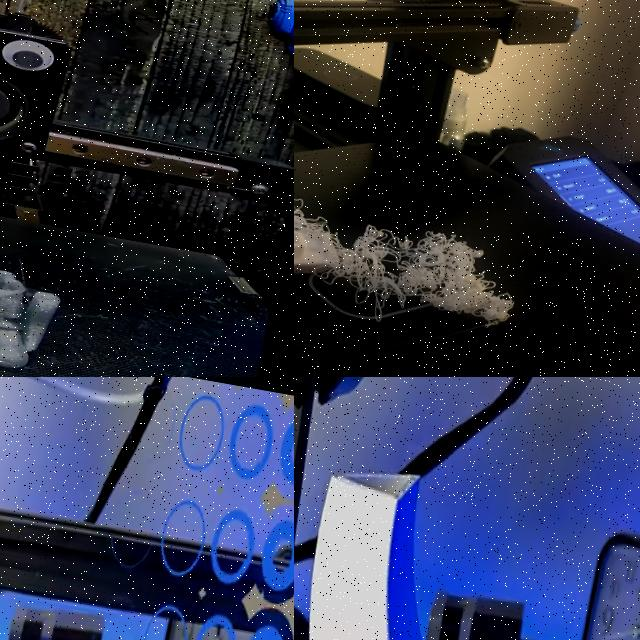spaghetti: (312, 180, 554, 366), (294, 142, 367, 332)
